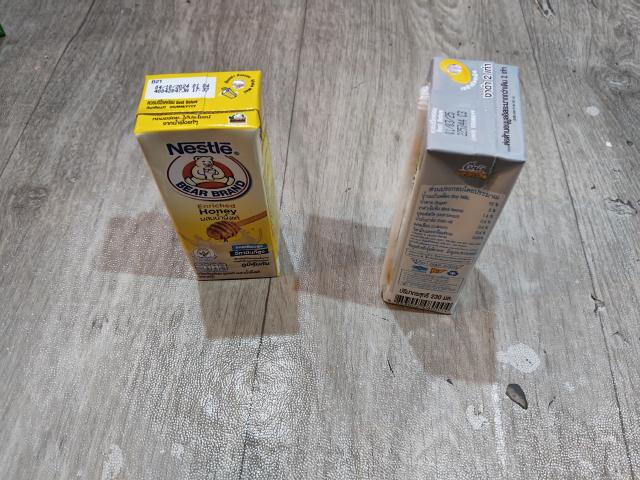drink_box: (371, 51, 538, 323), (124, 64, 296, 286)
